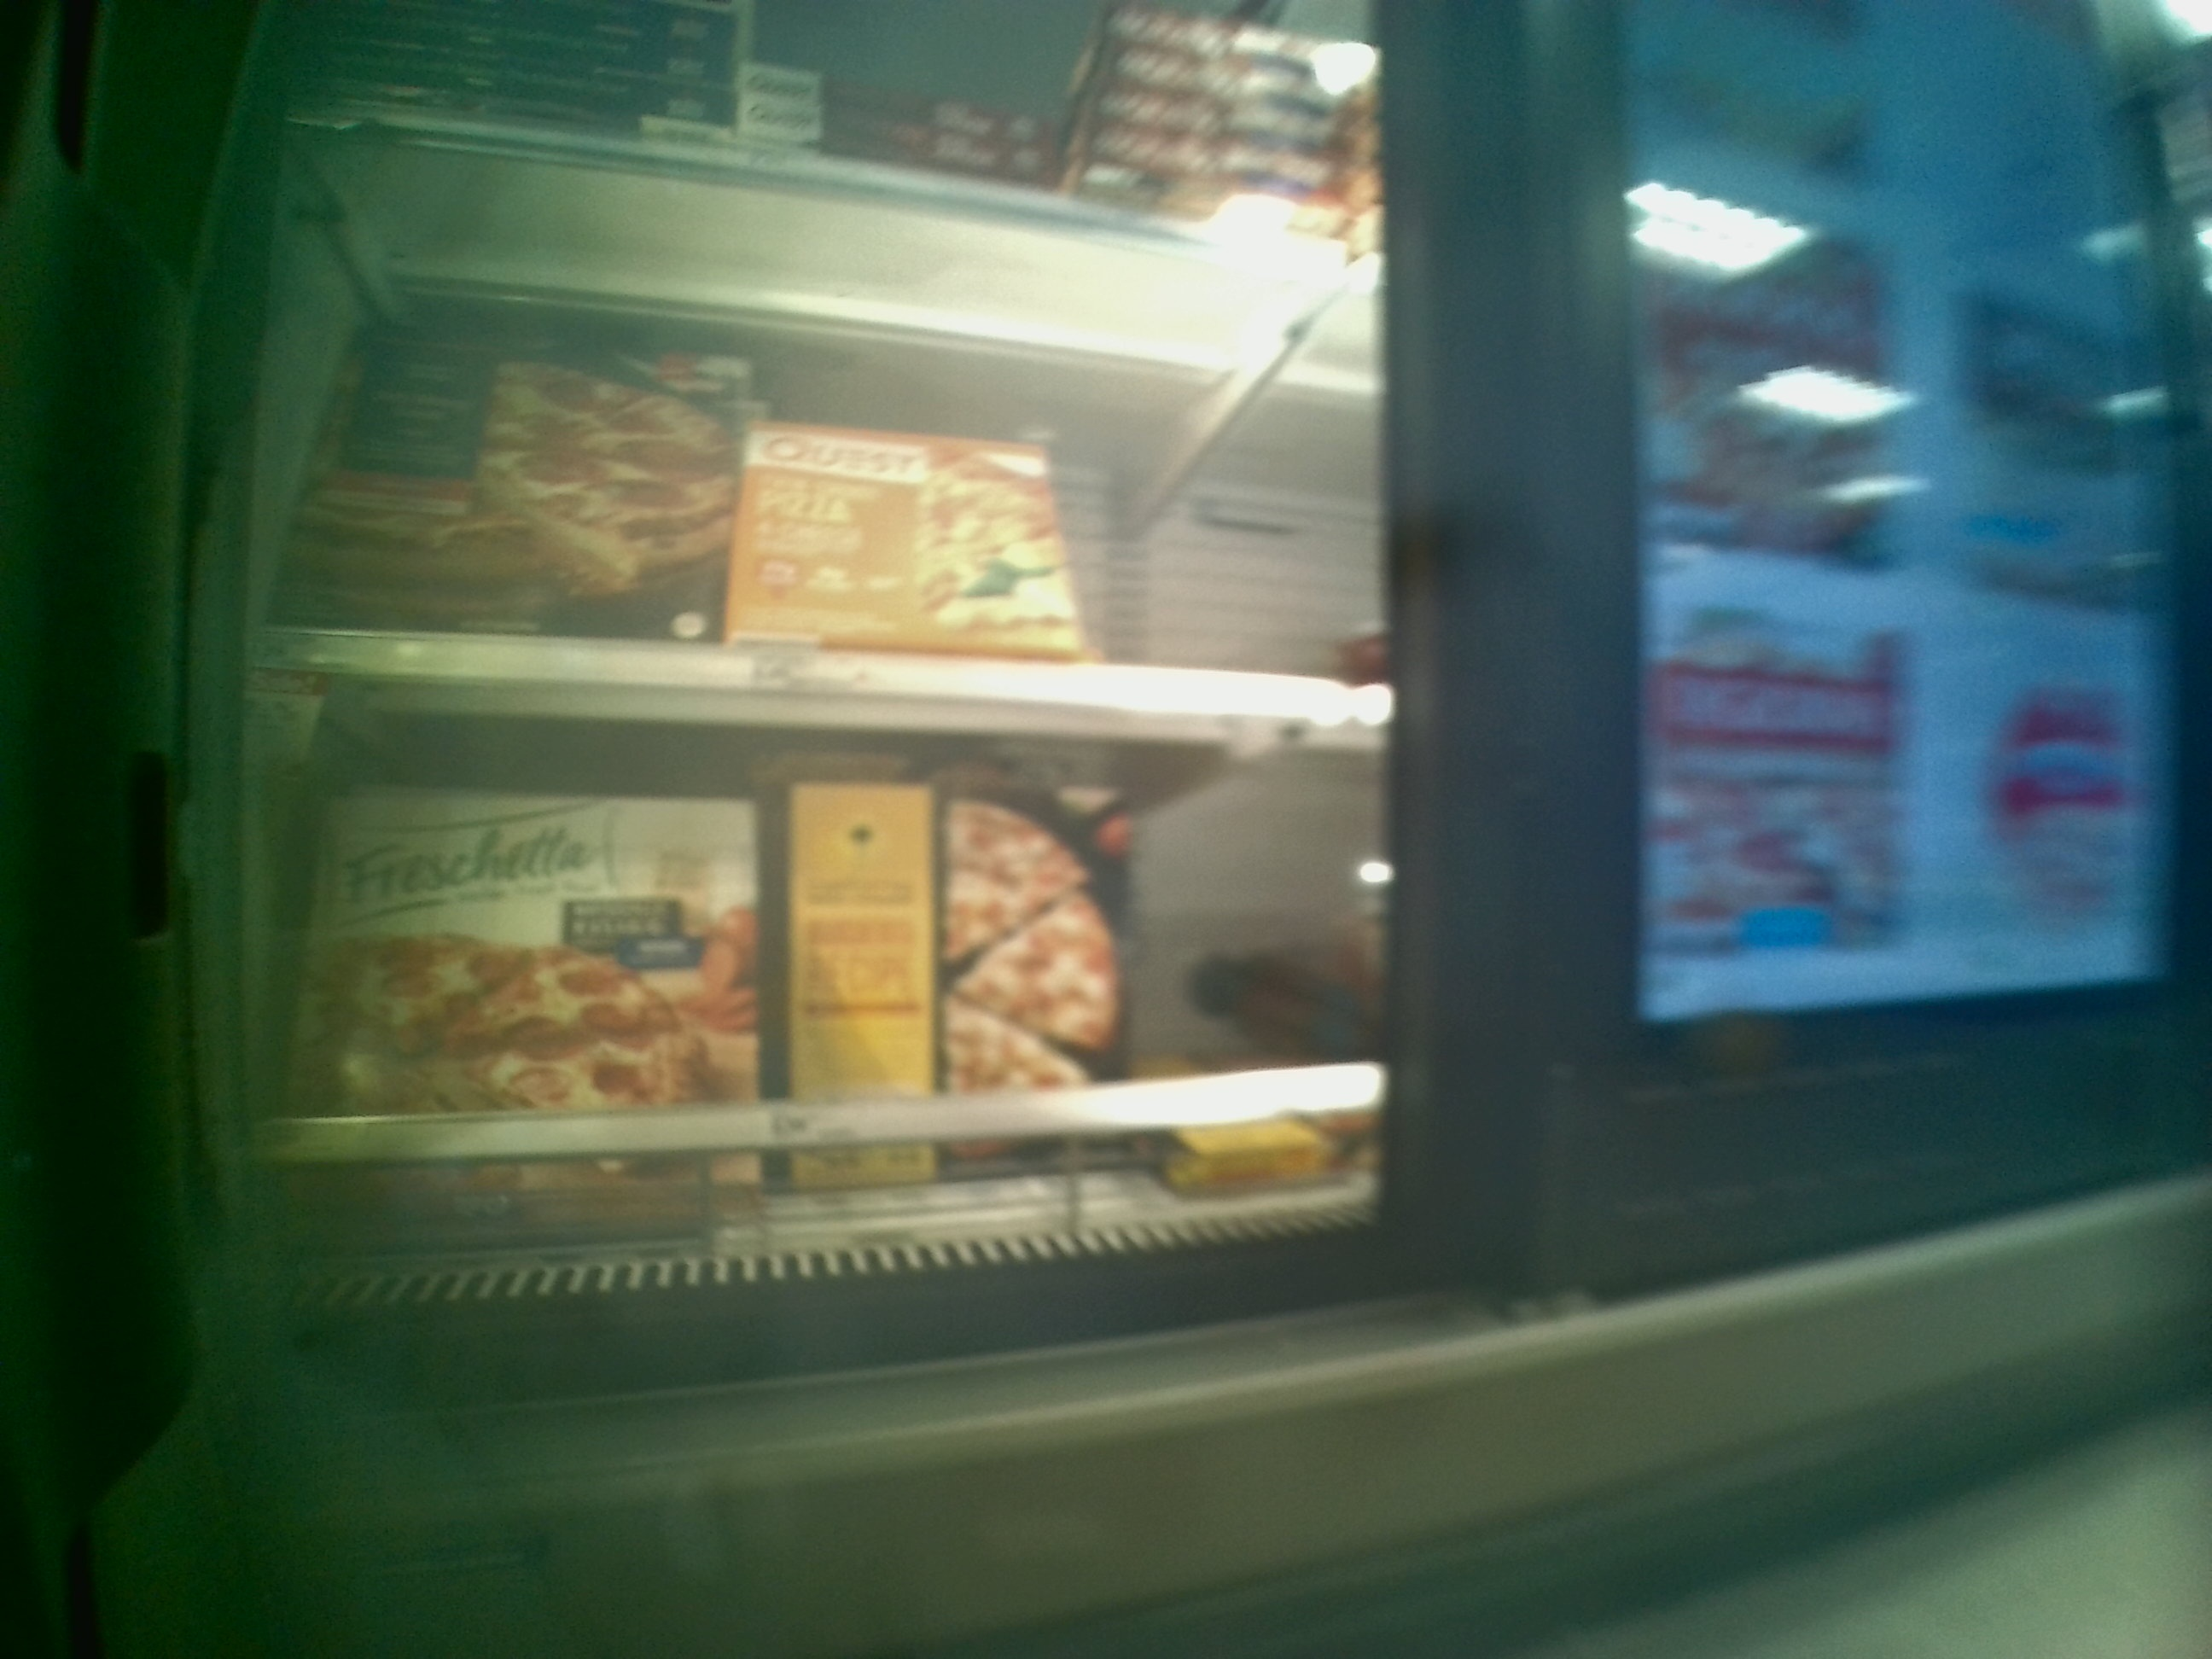shelf: (260, 647, 1395, 1253)
